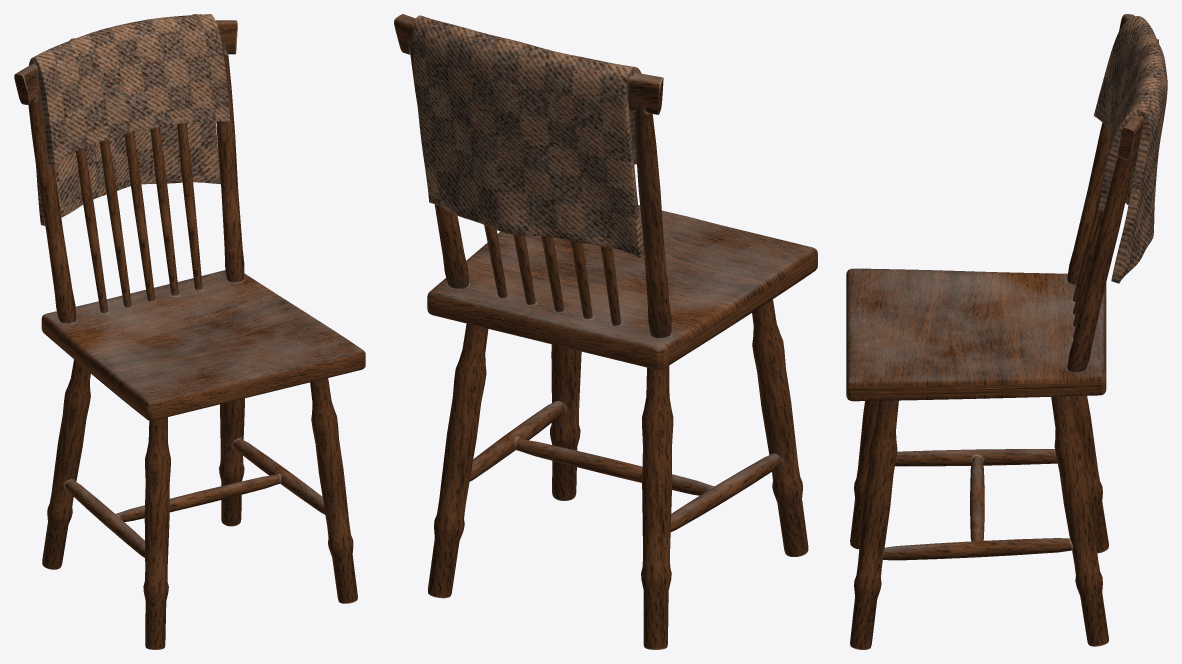
The model's file is corner_chair.glb.
The picture shows the model from 3 angles, left to right: view 1: azimuth 30°, elevation 25°; view 2: azimuth 150°, elevation 25°; view 3: azimuth 270°, elevation 25°; orthographic projection. The views are drawn at different scales.
Parts seen in each view (by area): view 1: Chair; view 2: Chair; view 3: Chair.
Boxes of the visible parts, x1,y1,x2,y2 form: Chair: [14, 14, 365, 649]; Chair: [394, 14, 817, 649]; Chair: [846, 14, 1167, 649].
Size of the model in its own units: 0.4238 by 0.914 by 0.4943.
1 material, 1 textured.
